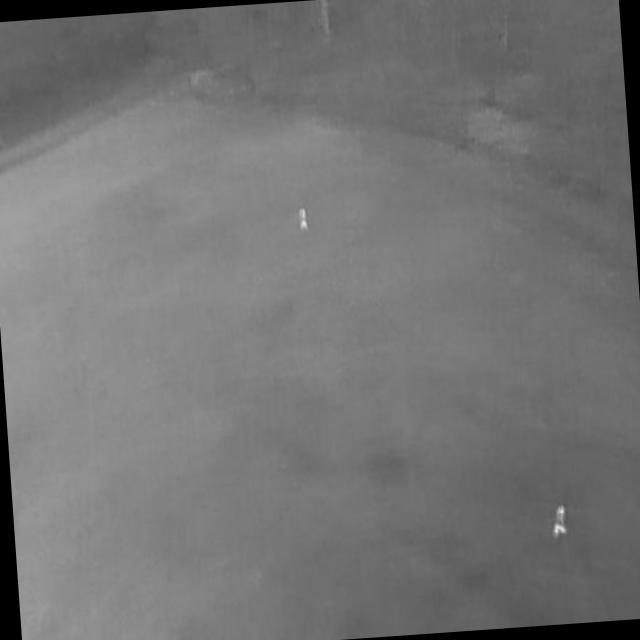person: (549, 505, 569, 539), (298, 205, 309, 234)
